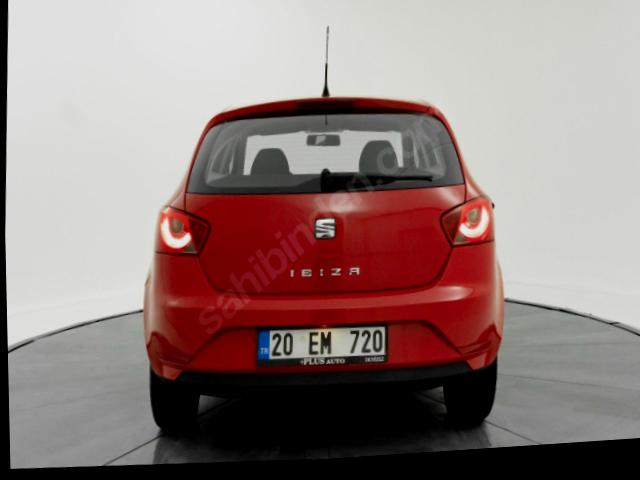plaka: (257, 325, 387, 365)
